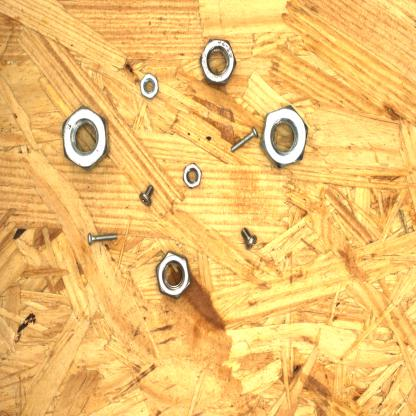screw: (228, 124, 260, 156), (132, 181, 158, 211), (238, 222, 262, 254), (84, 228, 121, 248)
